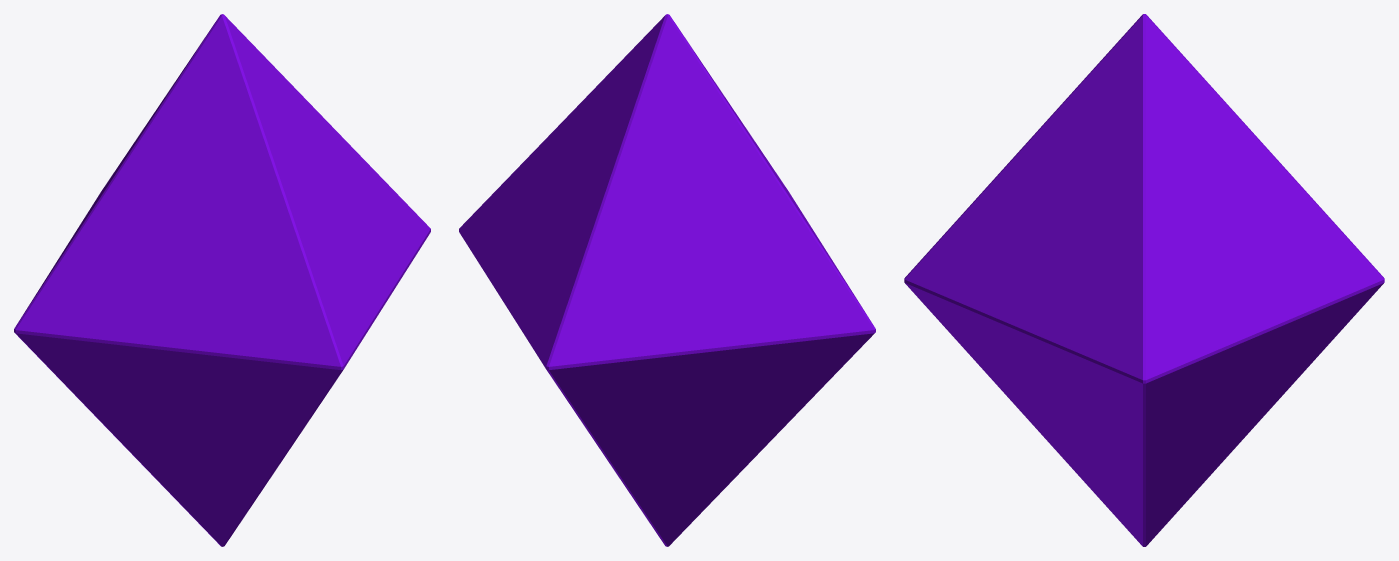
File: elmas1.fbx
3 renders of one model, left to right at view 1: azimuth 30°, elevation 25°; view 2: azimuth 150°, elevation 25°; view 3: azimuth 270°, elevation 25°, orthographic.
Visible parts, largest first — view 1: Cube; view 2: Cube; view 3: Cube.
Boxes of the visible parts, x1,y1,x2,y2 form: Cube: (14,14,430,546); Cube: (459,14,875,546); Cube: (904,14,1384,546).
Size of the model in its own units: 200 by 244 by 200.
